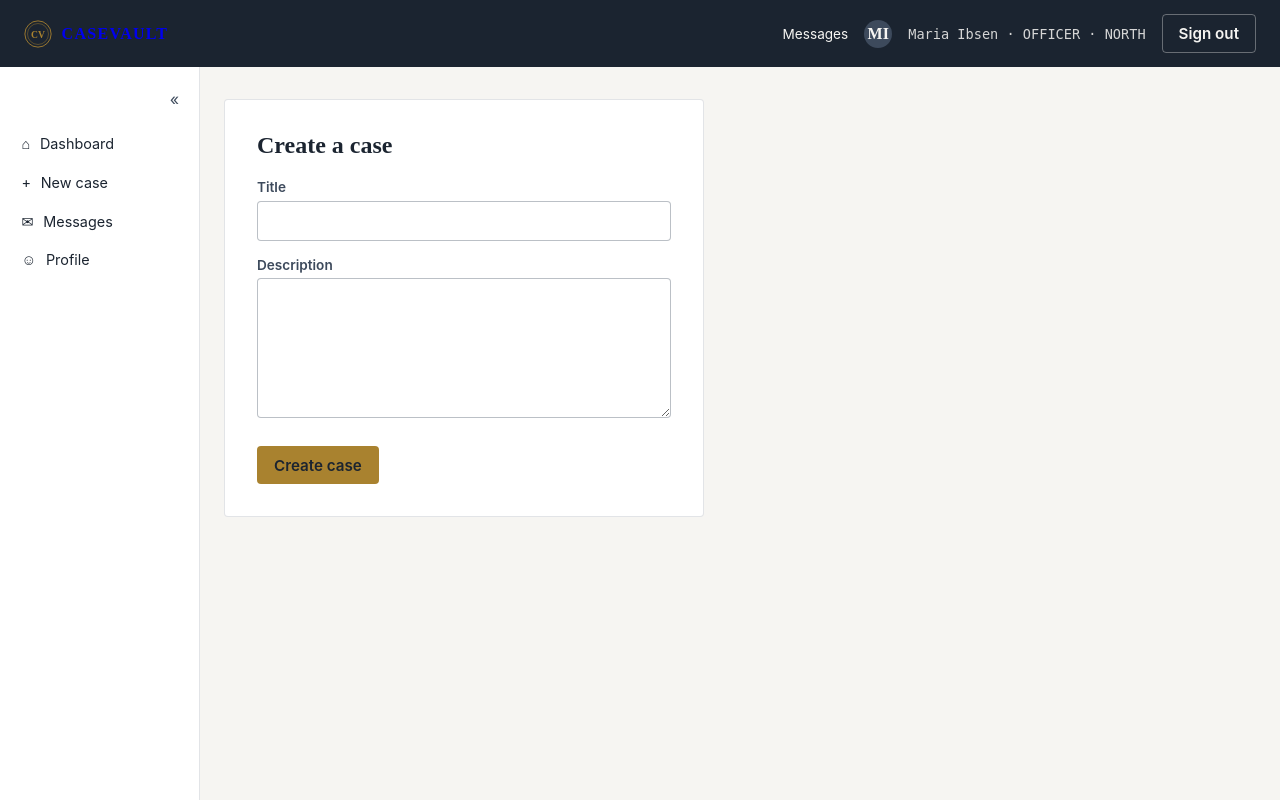
CreateCasePage › shows a server validation error
Type "x" into the field labelled "Title" at (464, 221), box [257,201,671,241]
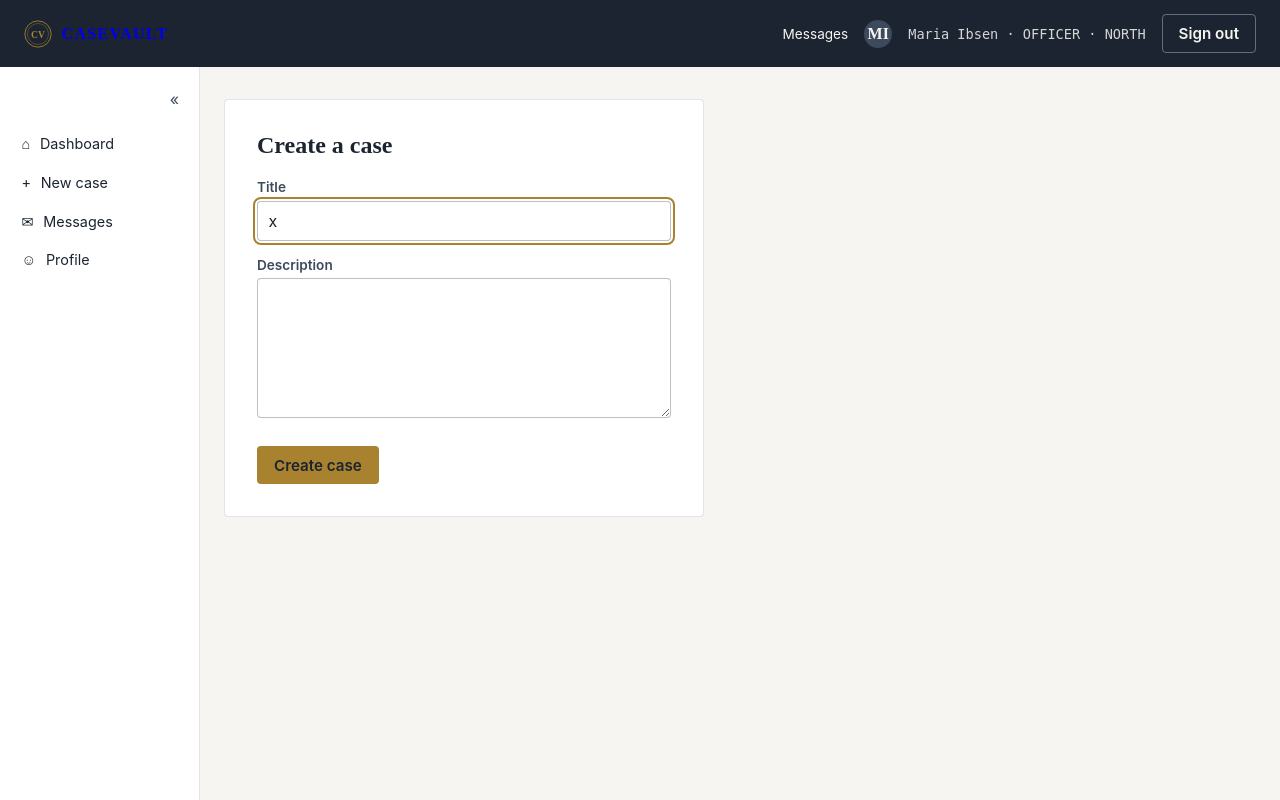
Type "Missing from the rack outside the library." into the text box labelled "Description" at (464, 348), box [257,278,671,418]
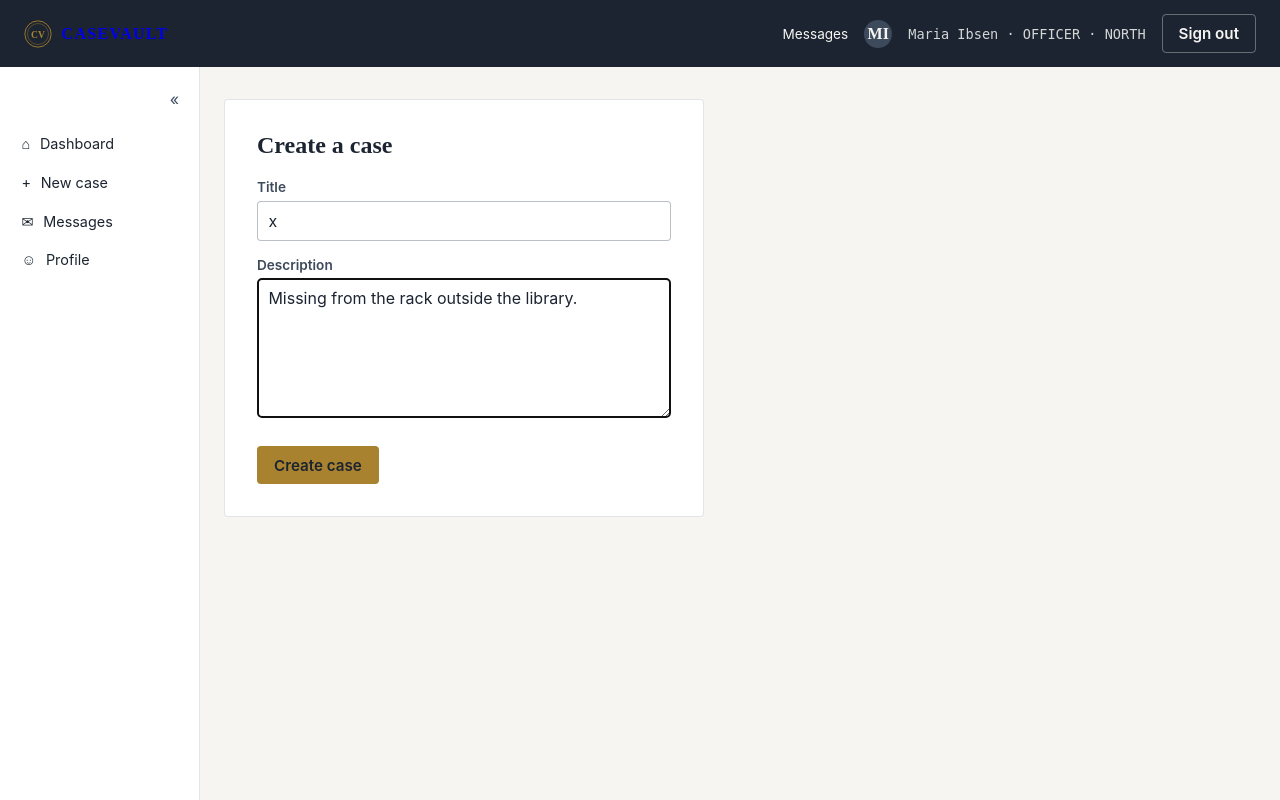
Click the button "Create case" at (318, 465), box [257,446,379,484]
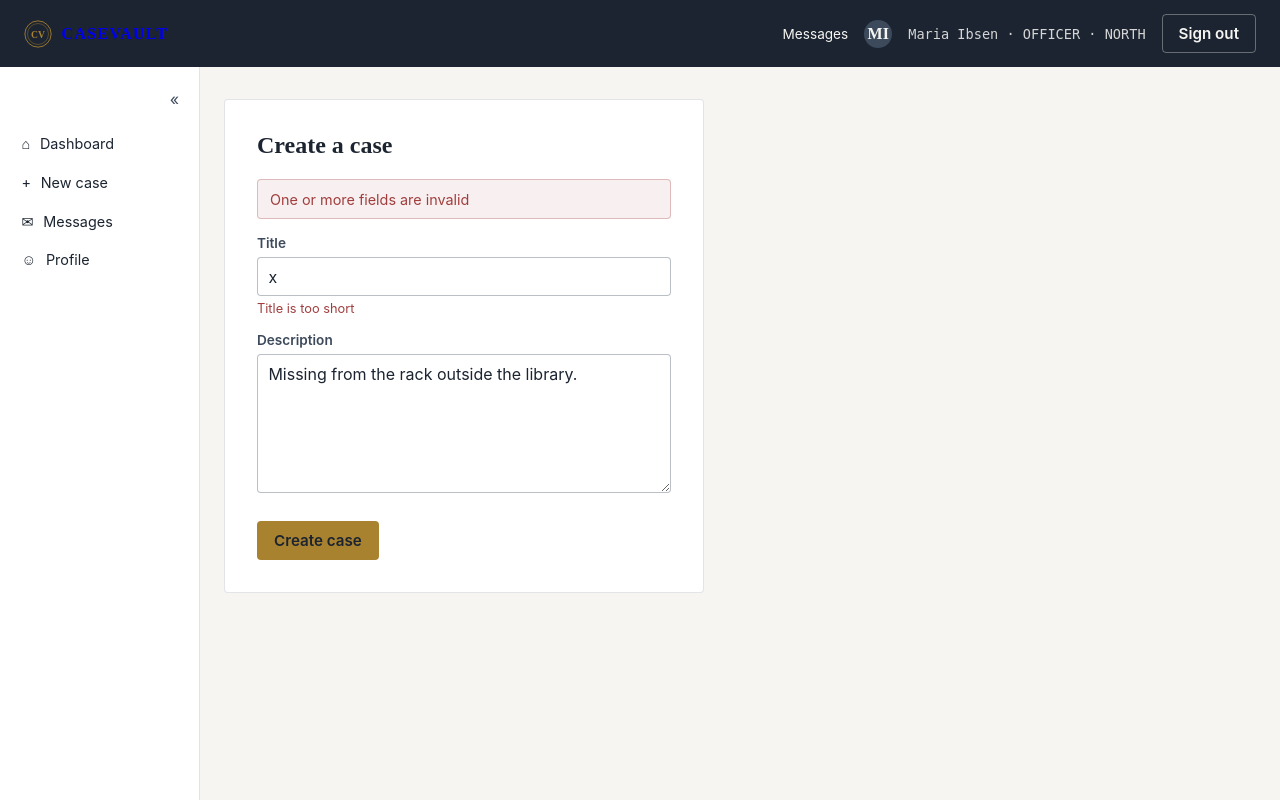
Check: the text "Title is too short" is shown, box [257,301,354,316]
